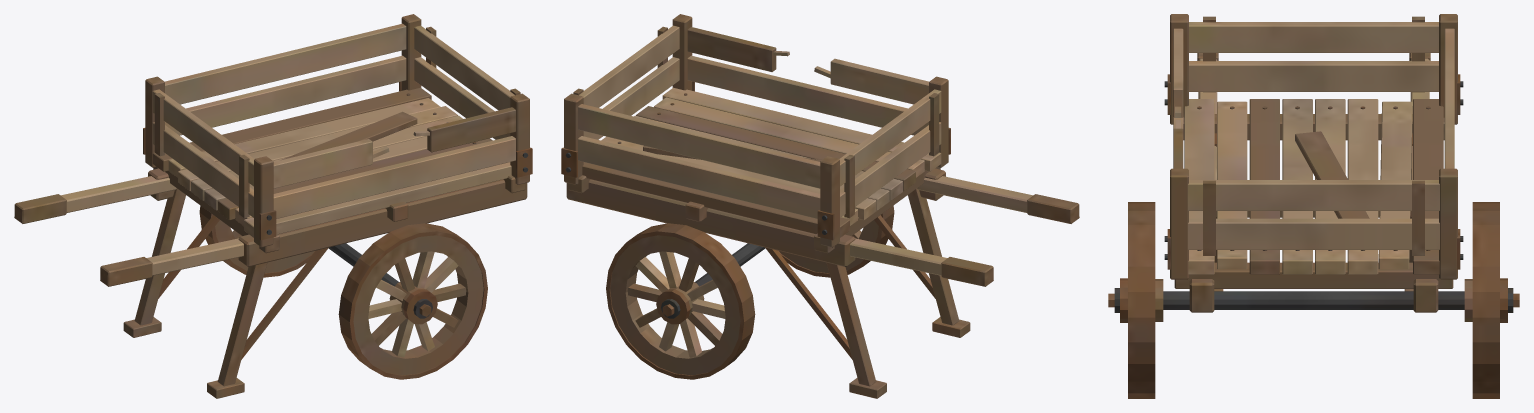
The model's file is R25_wooden_handcart_thela.glb.
The picture shows the model from 3 angles, left to right: view 1: azimuth 30°, elevation 25°; view 2: azimuth 150°, elevation 25°; view 3: azimuth 270°, elevation 25°; orthographic projection. The views are drawn at different scales.
Parts seen in each view (by area): view 1: Underbed timber; view 2: Underbed timber; view 3: Underbed timber.
Part boxes in pixels (left/top/right/bottom): Underbed timber: left=14, top=14, right=532, bottom=398; Underbed timber: left=561, top=14, right=1079, bottom=398; Underbed timber: left=1108, top=14, right=1519, bottom=398.
Size of the model in its own units: 2 by 1.08 by 1.38.
Materials: 4 (4 with a texture image).
